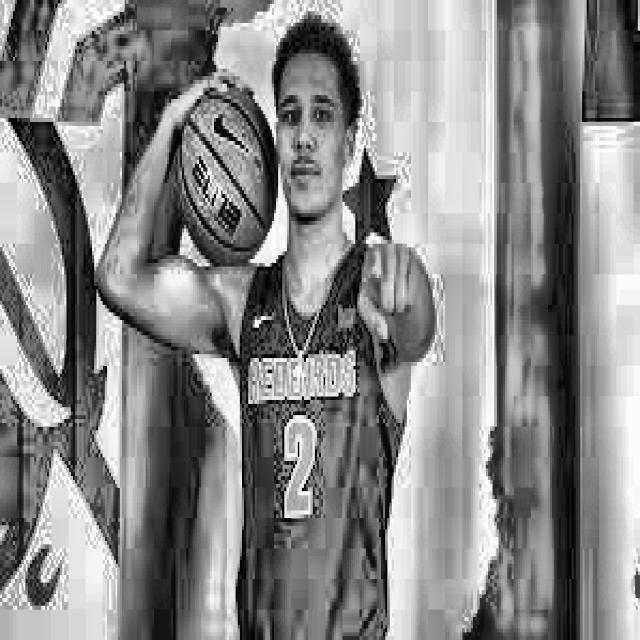Basketball: (182, 76, 278, 267)
